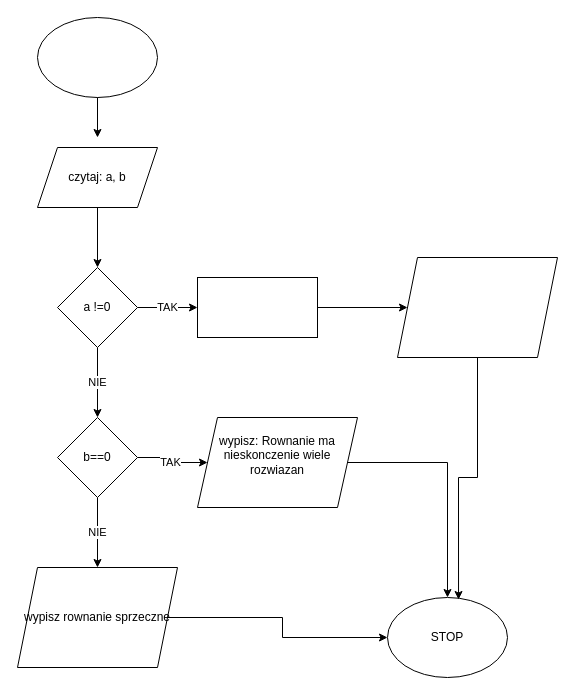
Some shapes in this 575 by 695 pixel diagram are drawn without their labels. Here are the shapes that lost their labels. From the top down, the centre of each, then its label:
At pixel 97 57: "Start".
At pixel 257 307: "x = -b/a".
At pixel 477 307: "wypisz x".
